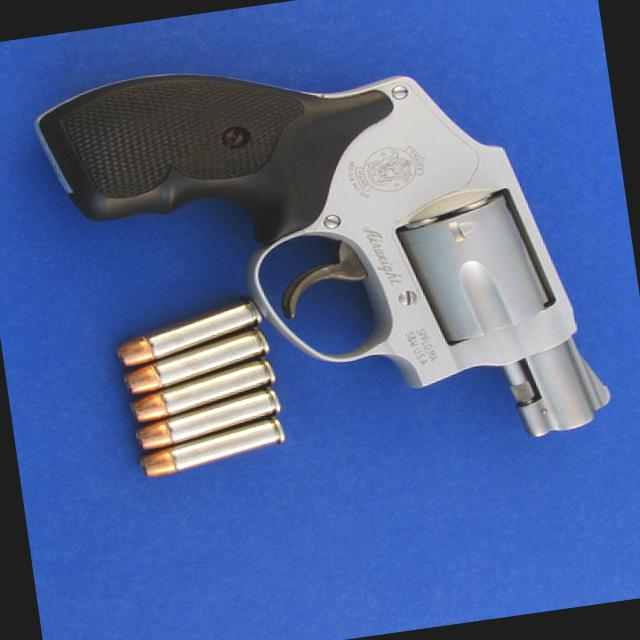handgun: (31, 17, 618, 496)
